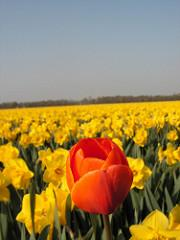tulip: (66, 137, 132, 216)
